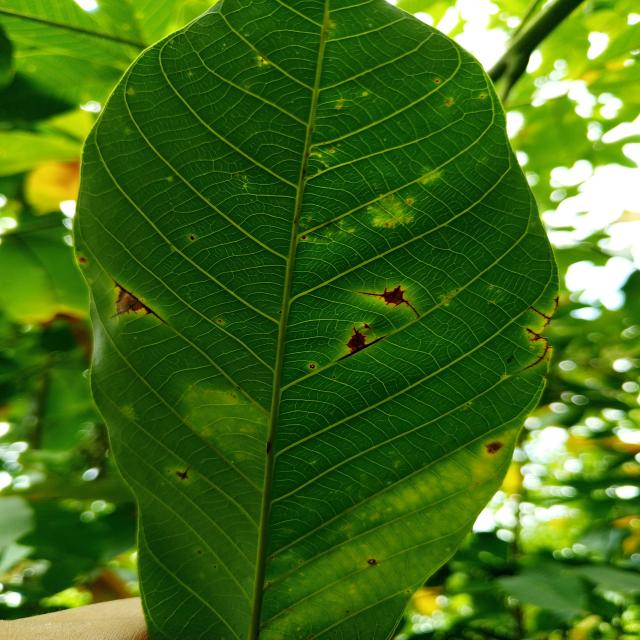Colletotrichum: (368, 558, 376, 564), (309, 364, 316, 369), (302, 235, 306, 240), (190, 235, 194, 240), (279, 310, 282, 314), (218, 320, 222, 322)
Corynespora: (109, 279, 167, 324), (354, 286, 418, 318), (335, 326, 386, 360), (524, 346, 548, 369), (526, 306, 550, 320), (526, 328, 541, 342), (175, 467, 190, 480)
